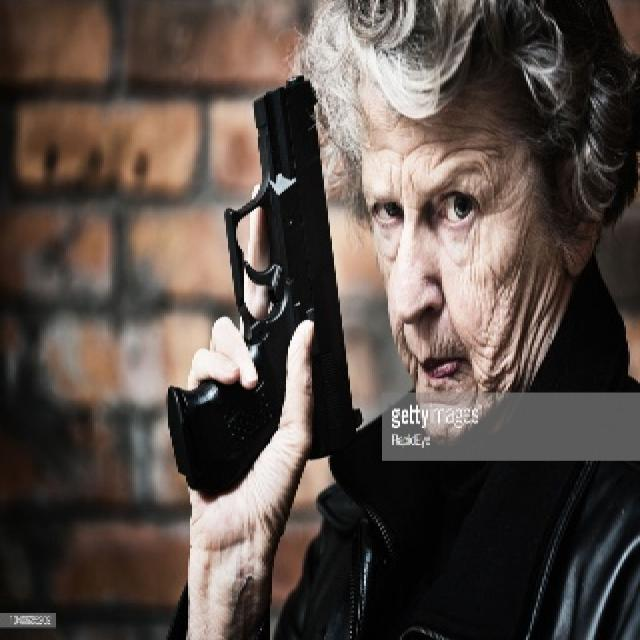handgun: (161, 69, 367, 493)
